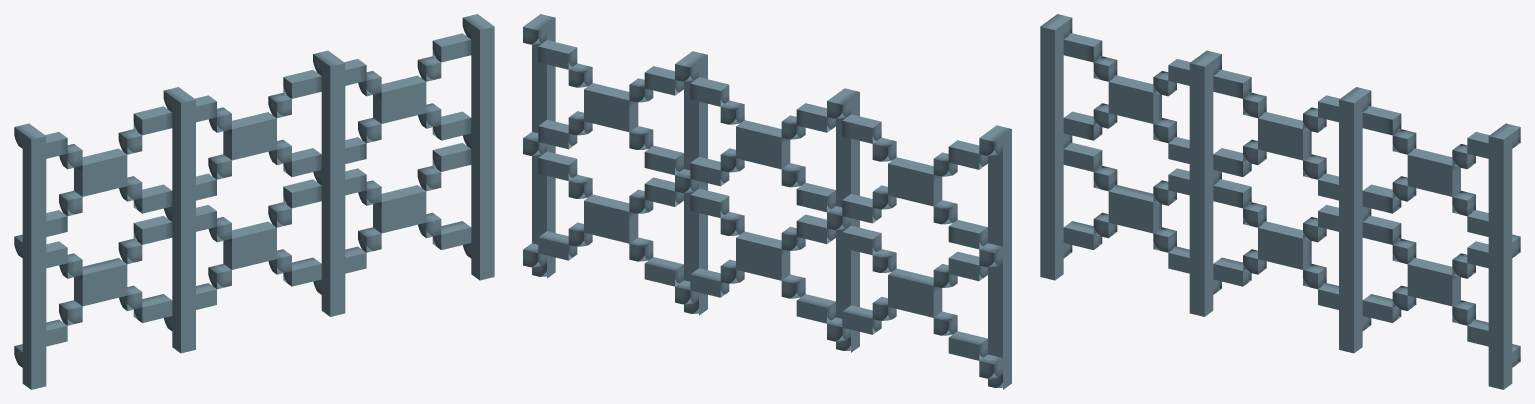
The model's file is Płot_siatka_jasny.dae.
3 views of the same model, side by side, from view 1: azimuth 30°, elevation 25°; view 2: azimuth 150°, elevation 25°; view 3: azimuth 330°, elevation 25° (orthographic).
Visible parts, largest first — view 1: Content; view 2: Content; view 3: Content.
Part boxes in pixels (x1,y1,x2,y2): Content: [14, 14, 494, 389]; Content: [523, 14, 1011, 389]; Content: [1040, 14, 1520, 389].
Bounding box in the file's own units: 31 × 16 × 2.
Materials: 1 (1 with a texture image).
